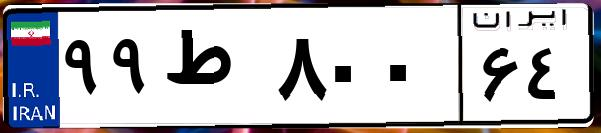0: (385, 28, 445, 110), (330, 28, 385, 110)
4: (525, 38, 570, 115)
6: (475, 38, 525, 113)
8: (270, 28, 330, 110)
9: (57, 26, 110, 100), (110, 28, 158, 98)
ط: (158, 20, 270, 120)
